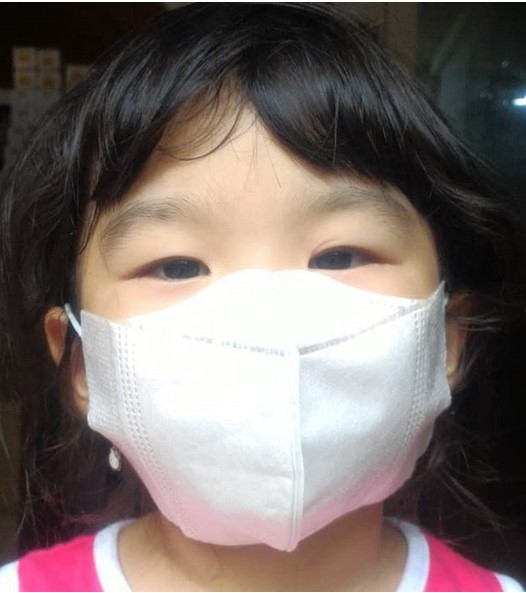face_with_mask: (38, 5, 482, 555)
